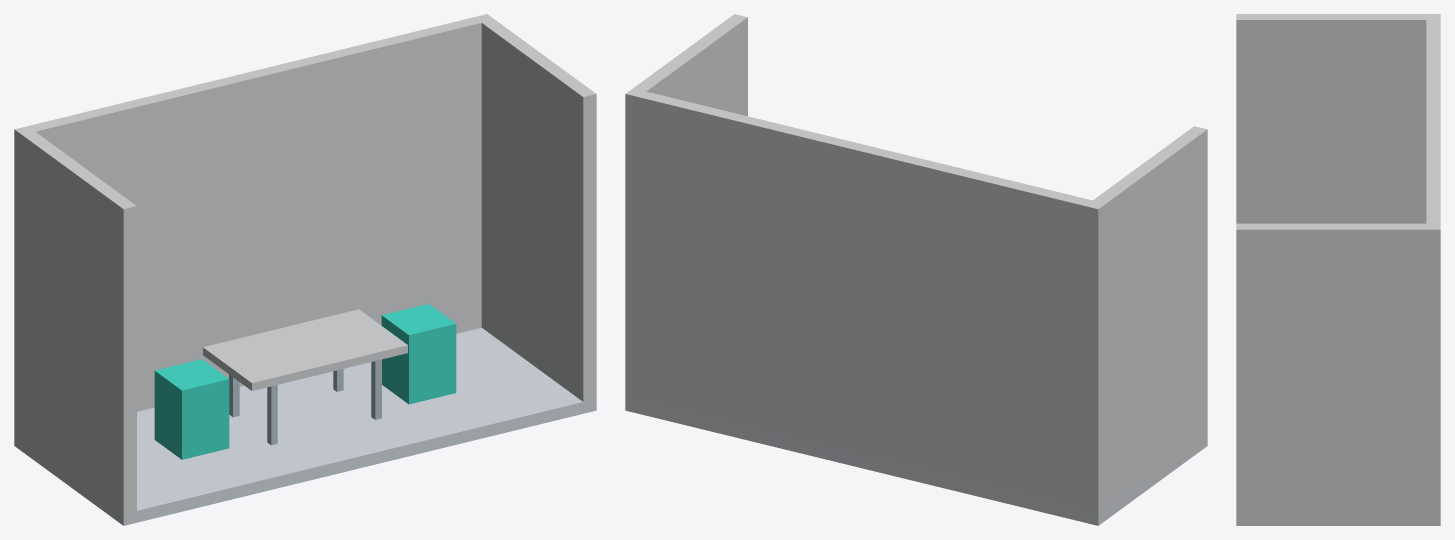
3 views of the same model, side by side, from view 1: azimuth 30°, elevation 25°; view 2: azimuth 150°, elevation 25°; view 3: azimuth 270°, elevation 25° (orthographic). The views are drawn at different scales.
Parts seen in each view (by area): view 1: Exhibition Booth Concept; view 2: Exhibition Booth Concept; view 3: Exhibition Booth Concept.
Boxes of the visible parts, x1,y1,x2,y2 form: Exhibition Booth Concept: (14,14,596,525); Exhibition Booth Concept: (625,14,1207,525); Exhibition Booth Concept: (1236,14,1440,525).
Size of the model in its own units: 5 by 3.2 by 2.
